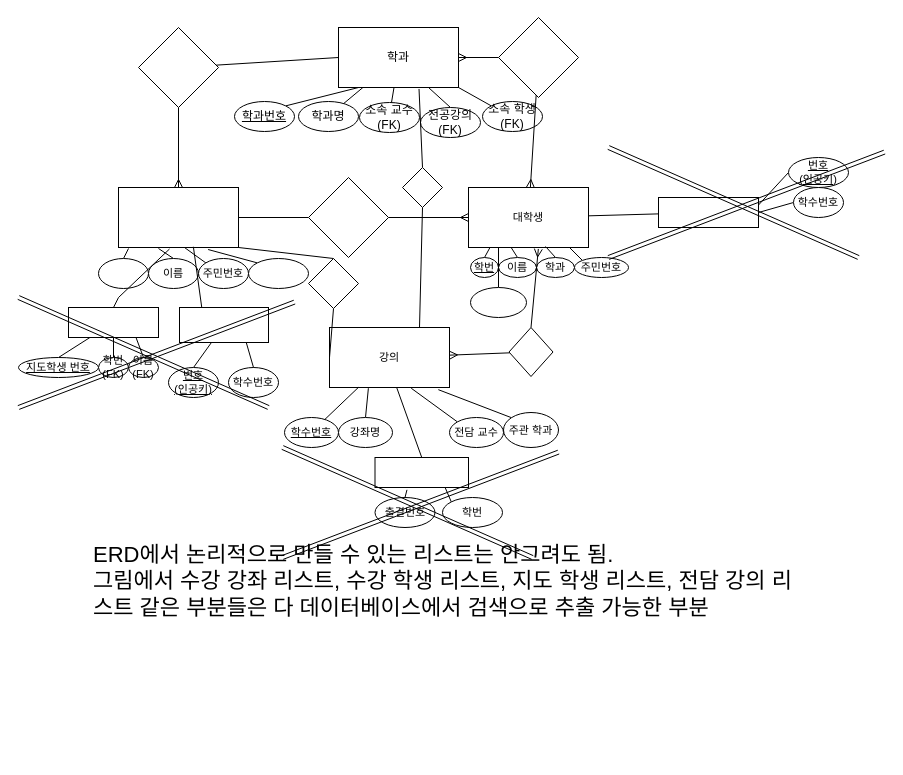
Image size: 903x775. Some labels were removed from this diagram. Here are the shapes that lost their labels. From the top down, the centre of each, then its label:
At [178,67]: "소속".
At [538,57]: "전공/소속".
At [422,187]: "주관".
At [178,217]: "교수".
At [348,217]: "지도관계".
At [708,212]: "수강 강좌 리스트".
At [123,273]: "교수번호".
At [278,273]: "학과(전공)".
At [333,283]: "전담".
At [113,322]: "지도학생 리스트".
At [498,302]: "지도교수".
At [223,324]: "전담 강의 리스트".
At [530,351]: "수강".
At [421,472]: "수강 학생 리스트".
